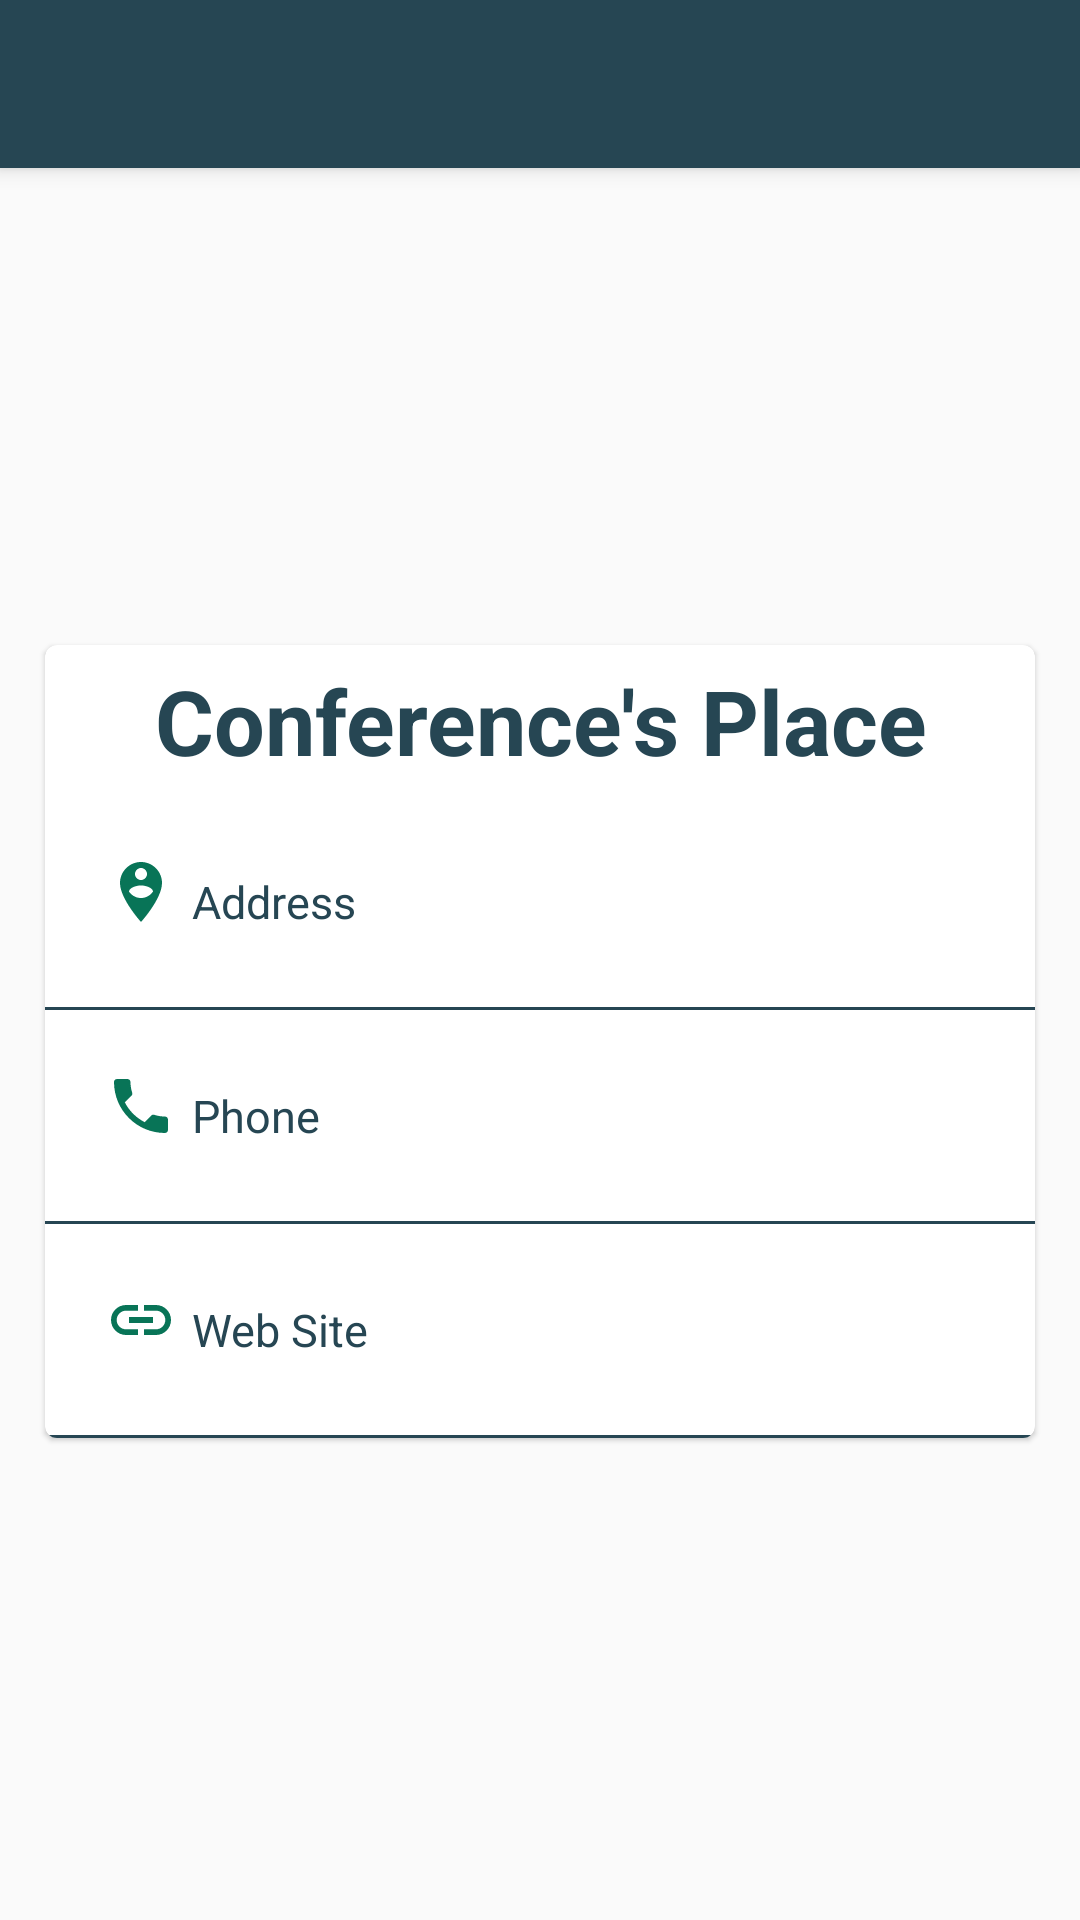

Point at icon controls on the screen. Image size 1080w x 1920h, points as [x,y].
link: [141,1320]
pin: [141,892]
